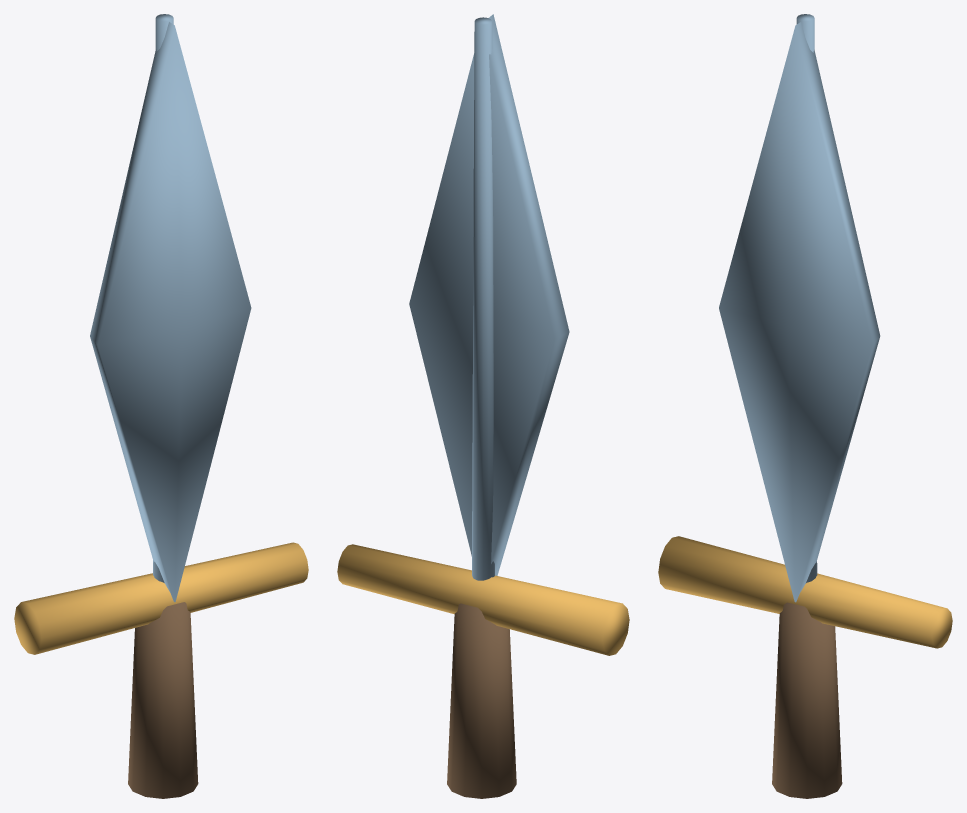
File: weapon.glb
3 renders of one model, left to right at view 1: azimuth 30°, elevation 25°; view 2: azimuth 150°, elevation 25°; view 3: azimuth 330°, elevation 25°, orthographic.
Parts seen in each view (by area): view 1: SwordBlade, SwordGuard, SwordGrip, SwordBlade_vein; view 2: SwordBlade, SwordGuard, SwordGrip, SwordBlade_vein; view 3: SwordBlade, SwordGuard, SwordGrip, SwordBlade_vein.
Boxes of the visible parts, <box> form: SwordBlade: <box>90,22,251,602</box>; SwordGuard: <box>14,542,308,654</box>; SwordGrip: <box>128,602,198,798</box>; SwordBlade_vein: <box>153,14,173,582</box>; SwordBlade: <box>409,14,569,575</box>; SwordGuard: <box>337,544,629,655</box>; SwordGrip: <box>447,603,516,798</box>; SwordBlade_vein: <box>472,17,494,580</box>; SwordBlade: <box>719,22,880,602</box>; SwordGuard: <box>658,536,952,648</box>; SwordGrip: <box>772,602,842,798</box>; SwordBlade_vein: <box>796,14,817,582</box>.
Size of the model in its own units: 0.24 by 0.651 by 0.0567.
